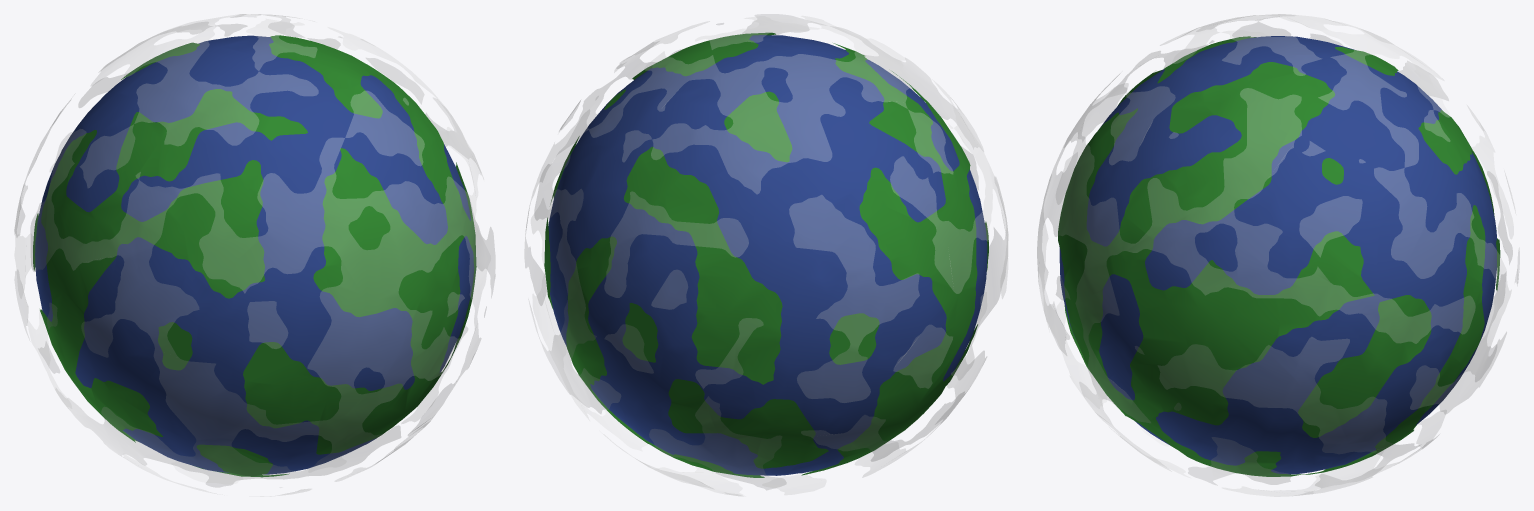
Rendered from Planet1.gltf.
3 views of the same model, side by side, from view 1: azimuth 30°, elevation 25°; view 2: azimuth 150°, elevation 25°; view 3: azimuth 270°, elevation 25° (orthographic).
Visible parts, largest first — view 1: Icosphere; view 2: Icosphere; view 3: Icosphere.
Part boxes in pixels (left/top/right/bottom): Icosphere: left=14, top=14, right=495, bottom=496; Icosphere: left=524, top=14, right=1008, bottom=496; Icosphere: left=1037, top=14, right=1519, bottom=496.
Bounding box in the file's own units: 2.2 × 2.2 × 2.2.
